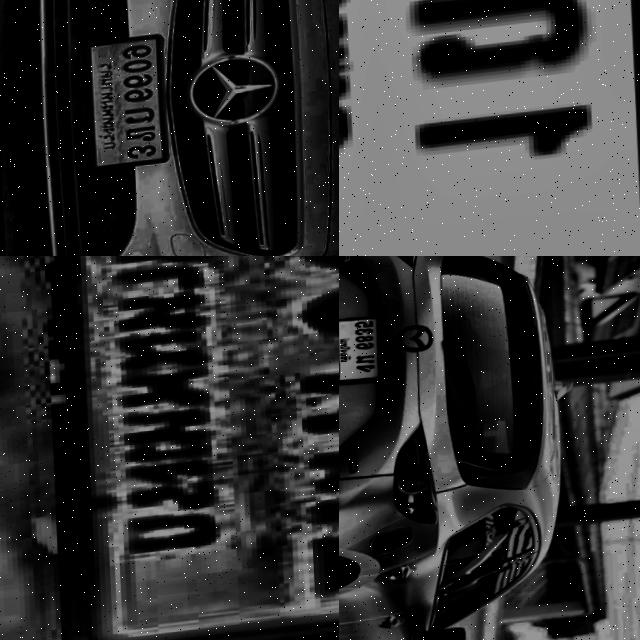license-plate: (27, 256, 339, 640), (339, 0, 640, 256), (84, 35, 173, 174), (339, 315, 391, 395)
